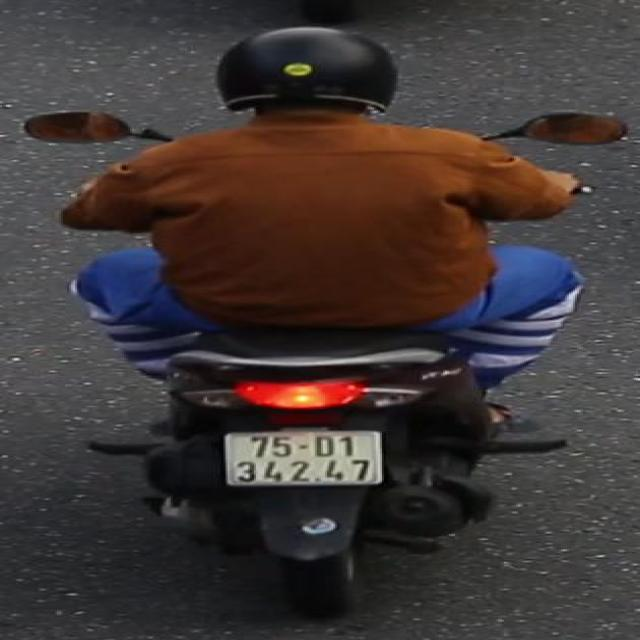LP: (220, 425, 394, 493)
helmet: (206, 23, 412, 132)
